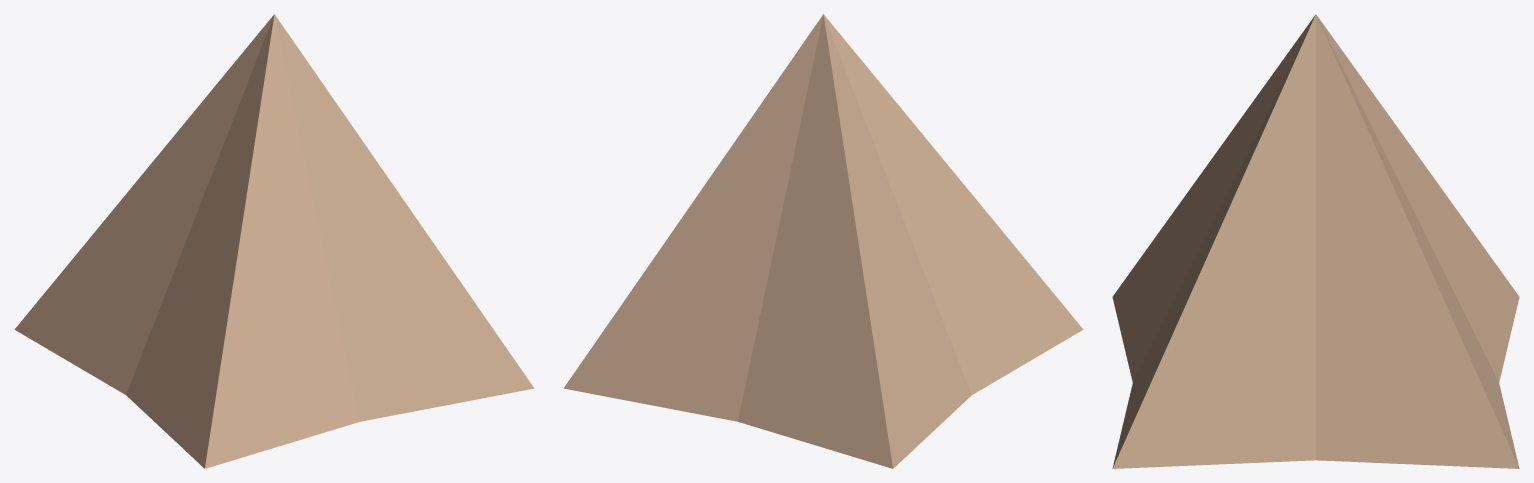
The model's file is mortar.gltf.
3 views of the same model, side by side, from view 1: azimuth 30°, elevation 25°; view 2: azimuth 150°, elevation 25°; view 3: azimuth 270°, elevation 25° (orthographic). The views are drawn at different scales.
Parts seen in each view (by area): view 1: pyramid; view 2: pyramid; view 3: pyramid.
Part boxes in pixels (x1=…): pyramid: x1=14, y1=14, x2=534, y2=468; pyramid: x1=563, y1=14, x2=1083, y2=468; pyramid: x1=1112, y1=14, x2=1519, y2=468.
Size of the model in its own units: 0.125 by 0.125 by 0.125.
1 material, 1 textured.
